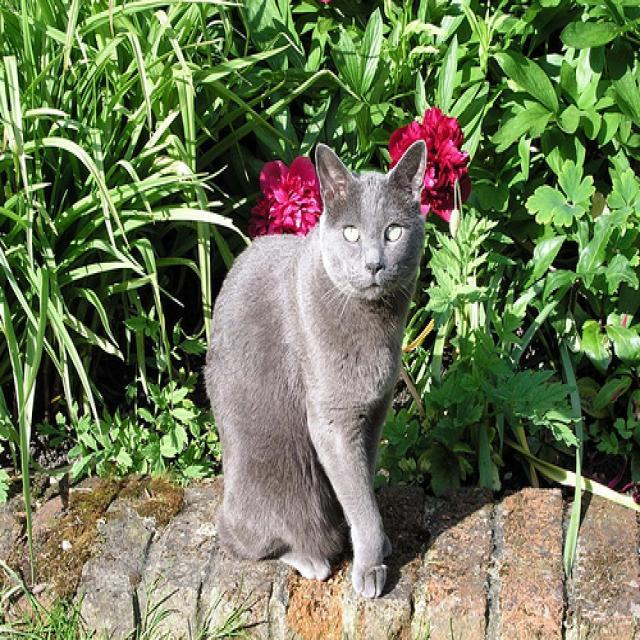Russian_Blue: (314, 138, 426, 299)
